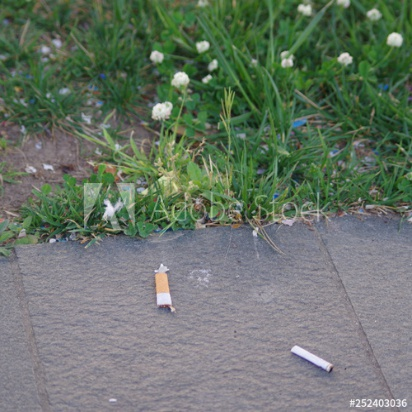cigarette: (140, 256, 179, 317), (283, 342, 339, 377)
